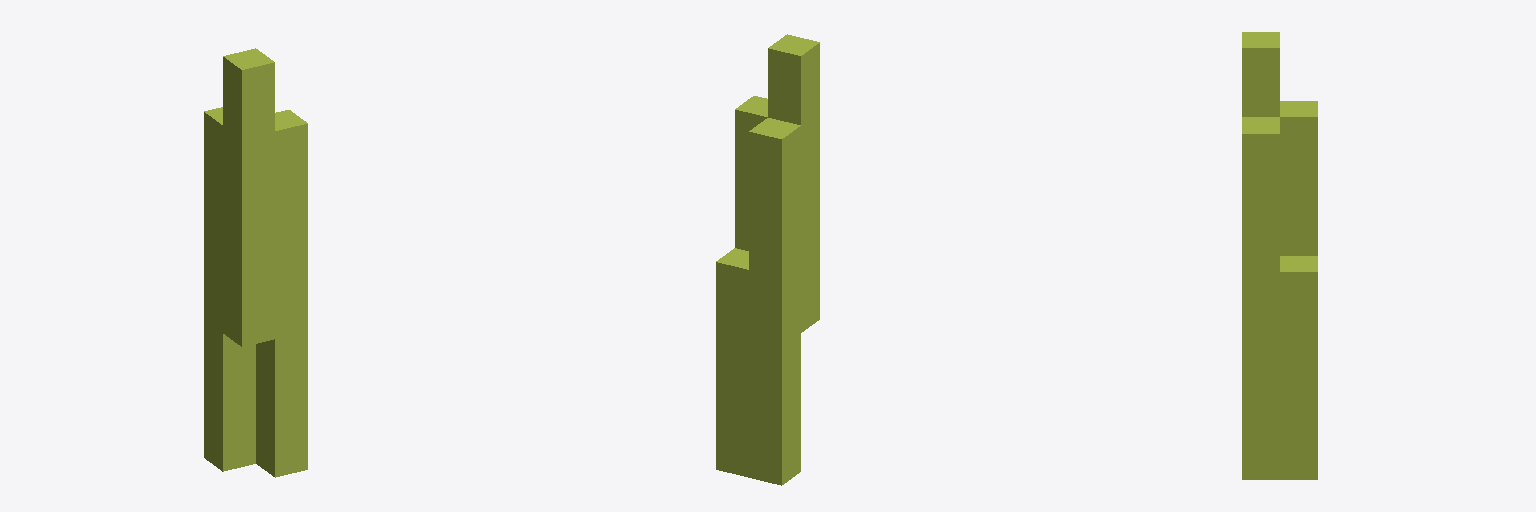
3 renders of one model, left to right at view 1: azimuth 30°, elevation 25°; view 2: azimuth 150°, elevation 25°; view 3: azimuth 270°, elevation 25°, orthographic.
Visible parts, largest first — view 1: object 1; view 2: object 1; view 3: object 1.
Part boxes in pixels (x1,y1,x2,y2): object 1: (204,48,307,477); object 1: (716,34,819,485); object 1: (1242,32,1317,479).
Bounding box in the file's own units: 0.2 × 1.2 × 0.2.
Materials: 1 (1 with a texture image).